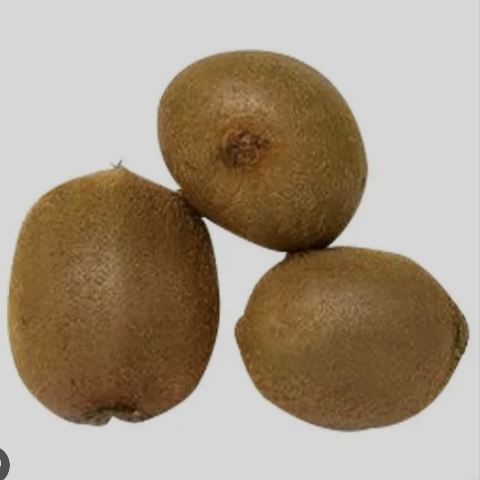kiwi: (0, 146, 230, 451), (141, 33, 391, 270), (222, 247, 468, 455)
